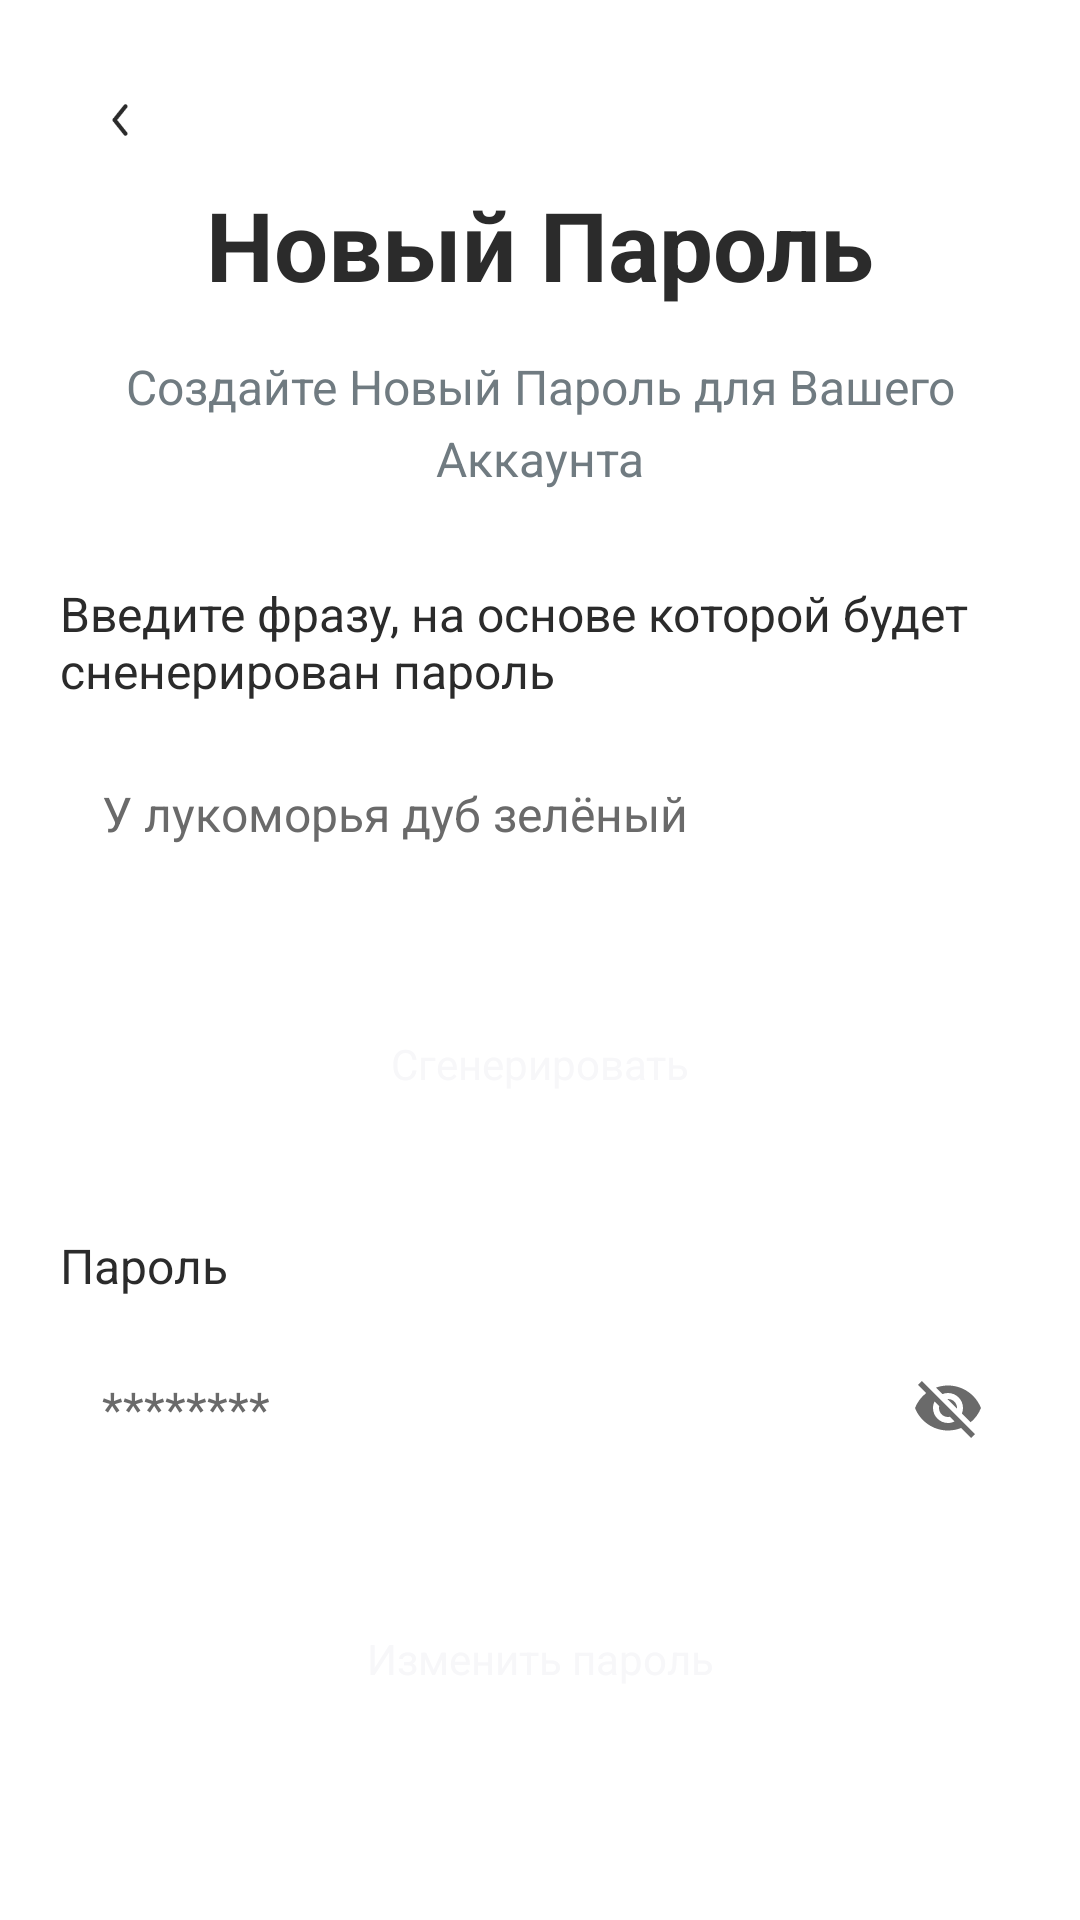

Named icons in this screenshot (1080 × 1920) and their centers, point (x, y):
back: point (120, 120)
